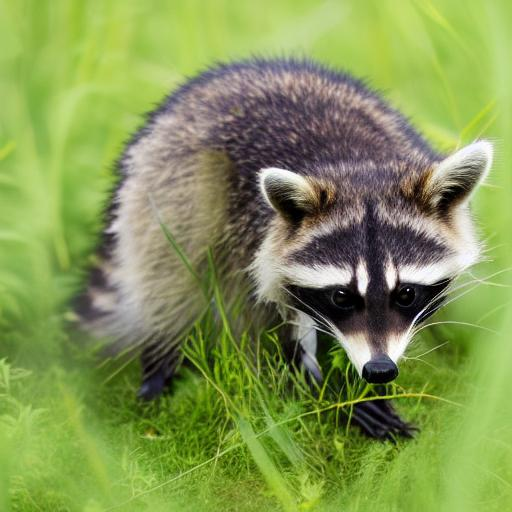raccoon: (52, 43, 495, 396)
